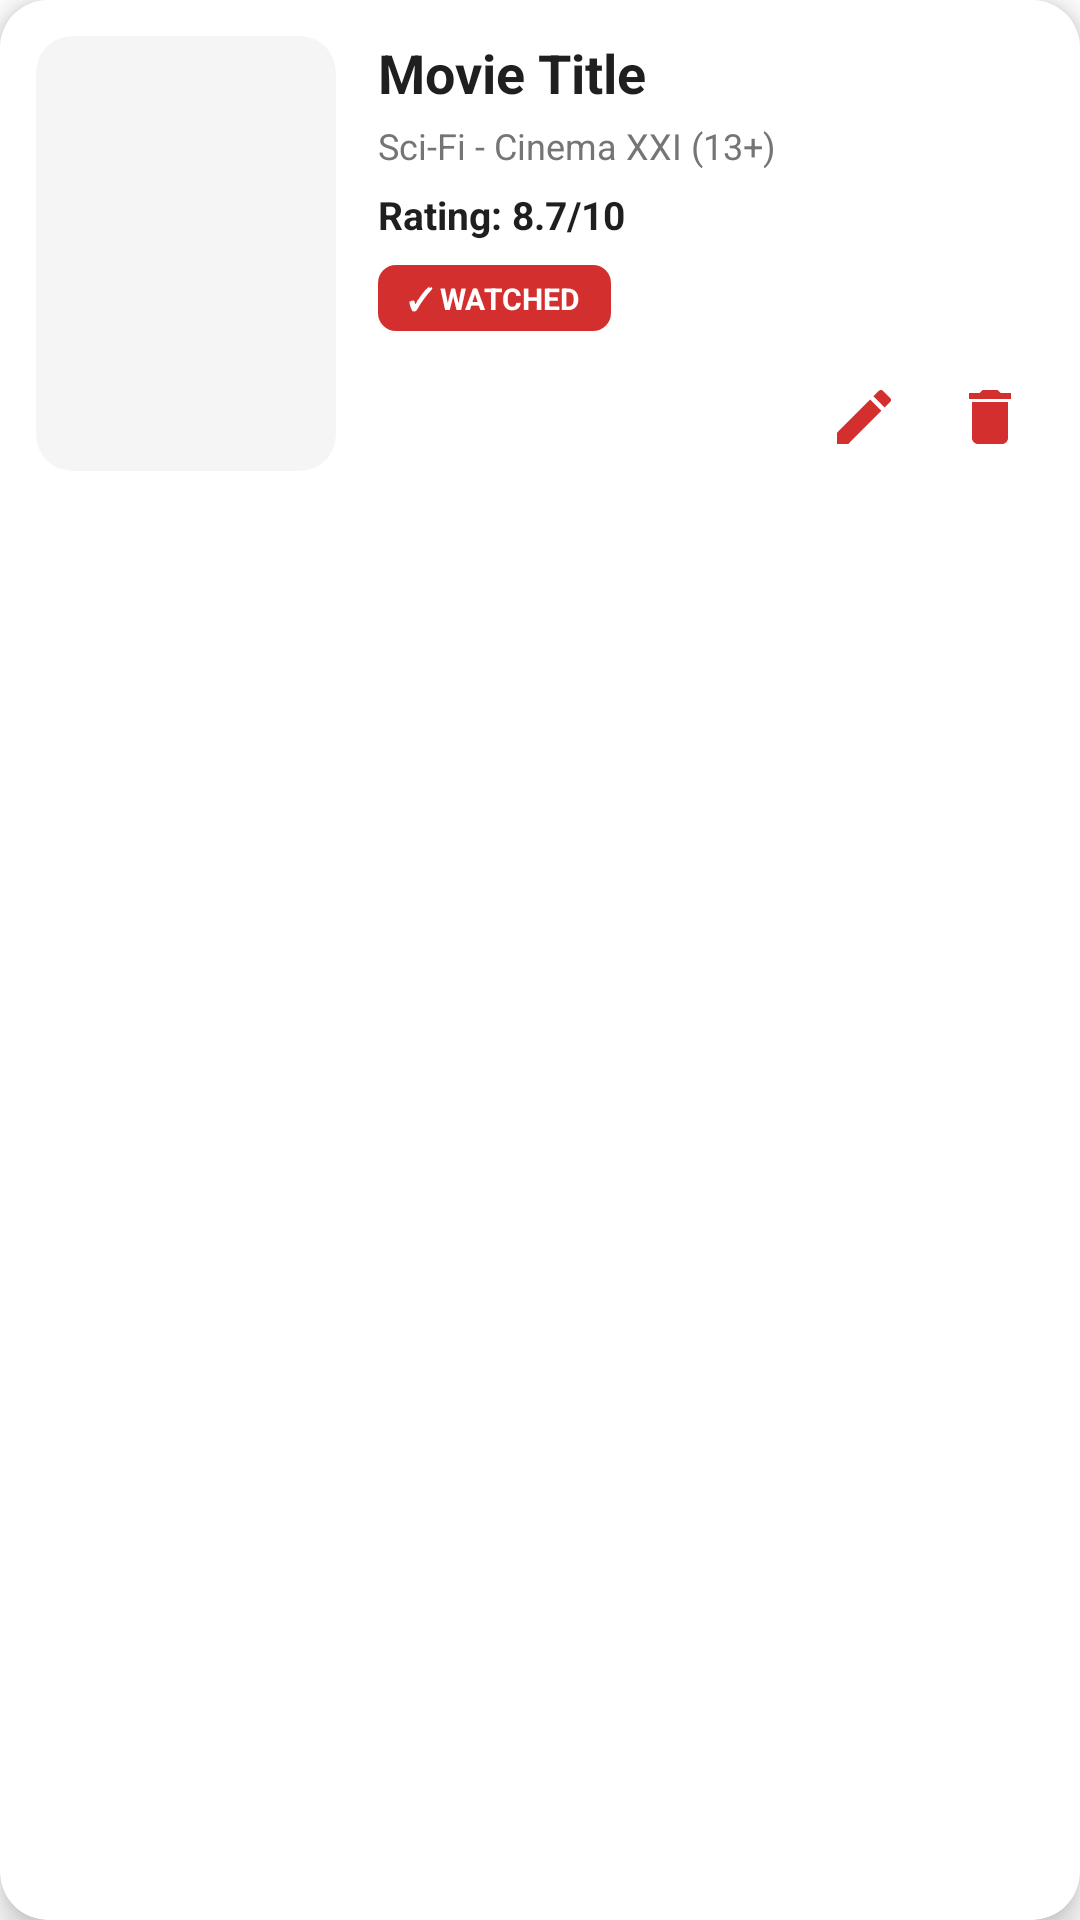

Icon bounding boxes for this 1080 x 1920 phone screenshot, format (x1=x1, y1=y1, x2=x2, y2=y2):
Edit Film: (x1=837, y1=390, x2=891, y2=444)
Hapus Film: (x1=969, y1=390, x2=1011, y2=444)
